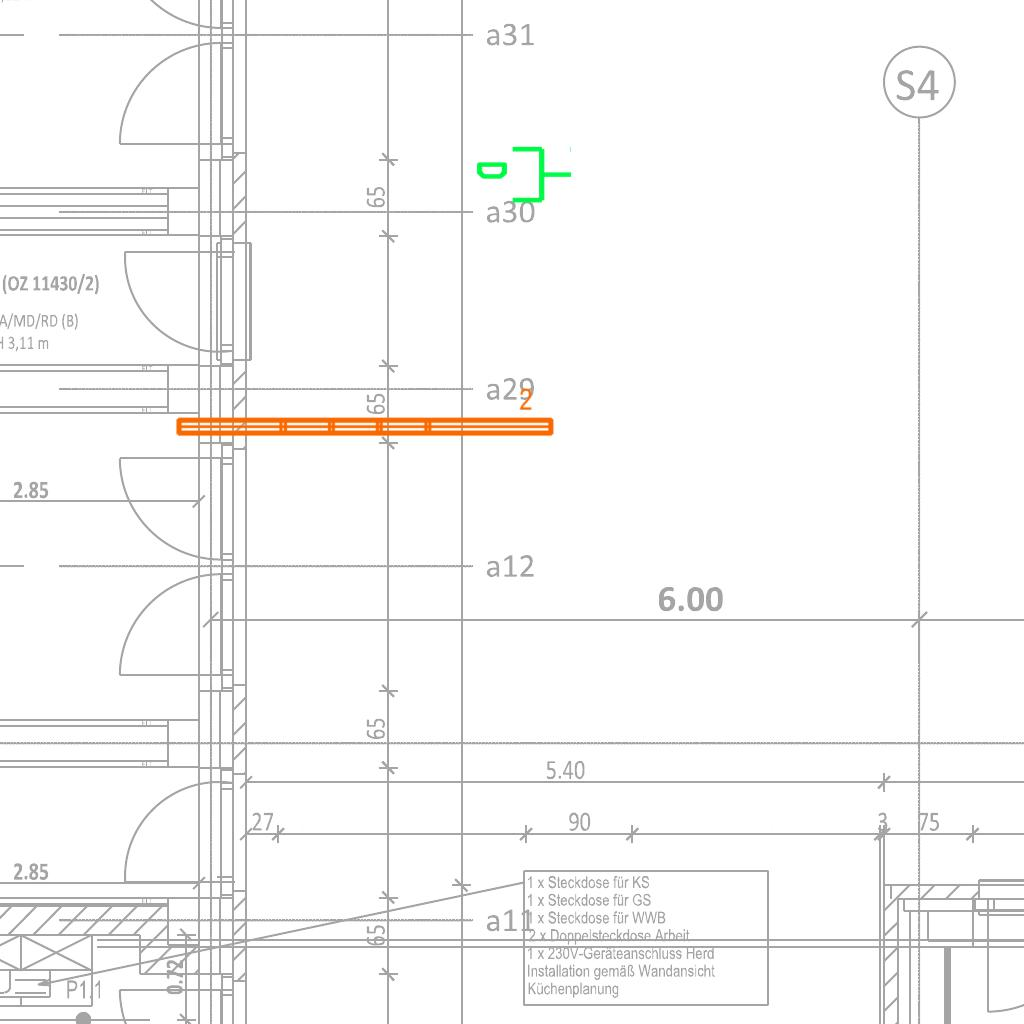Ambulanz_Pendelleuchte_LED: (171, 386, 558, 442)
Datenanschluss_einfach: (474, 142, 574, 211)
